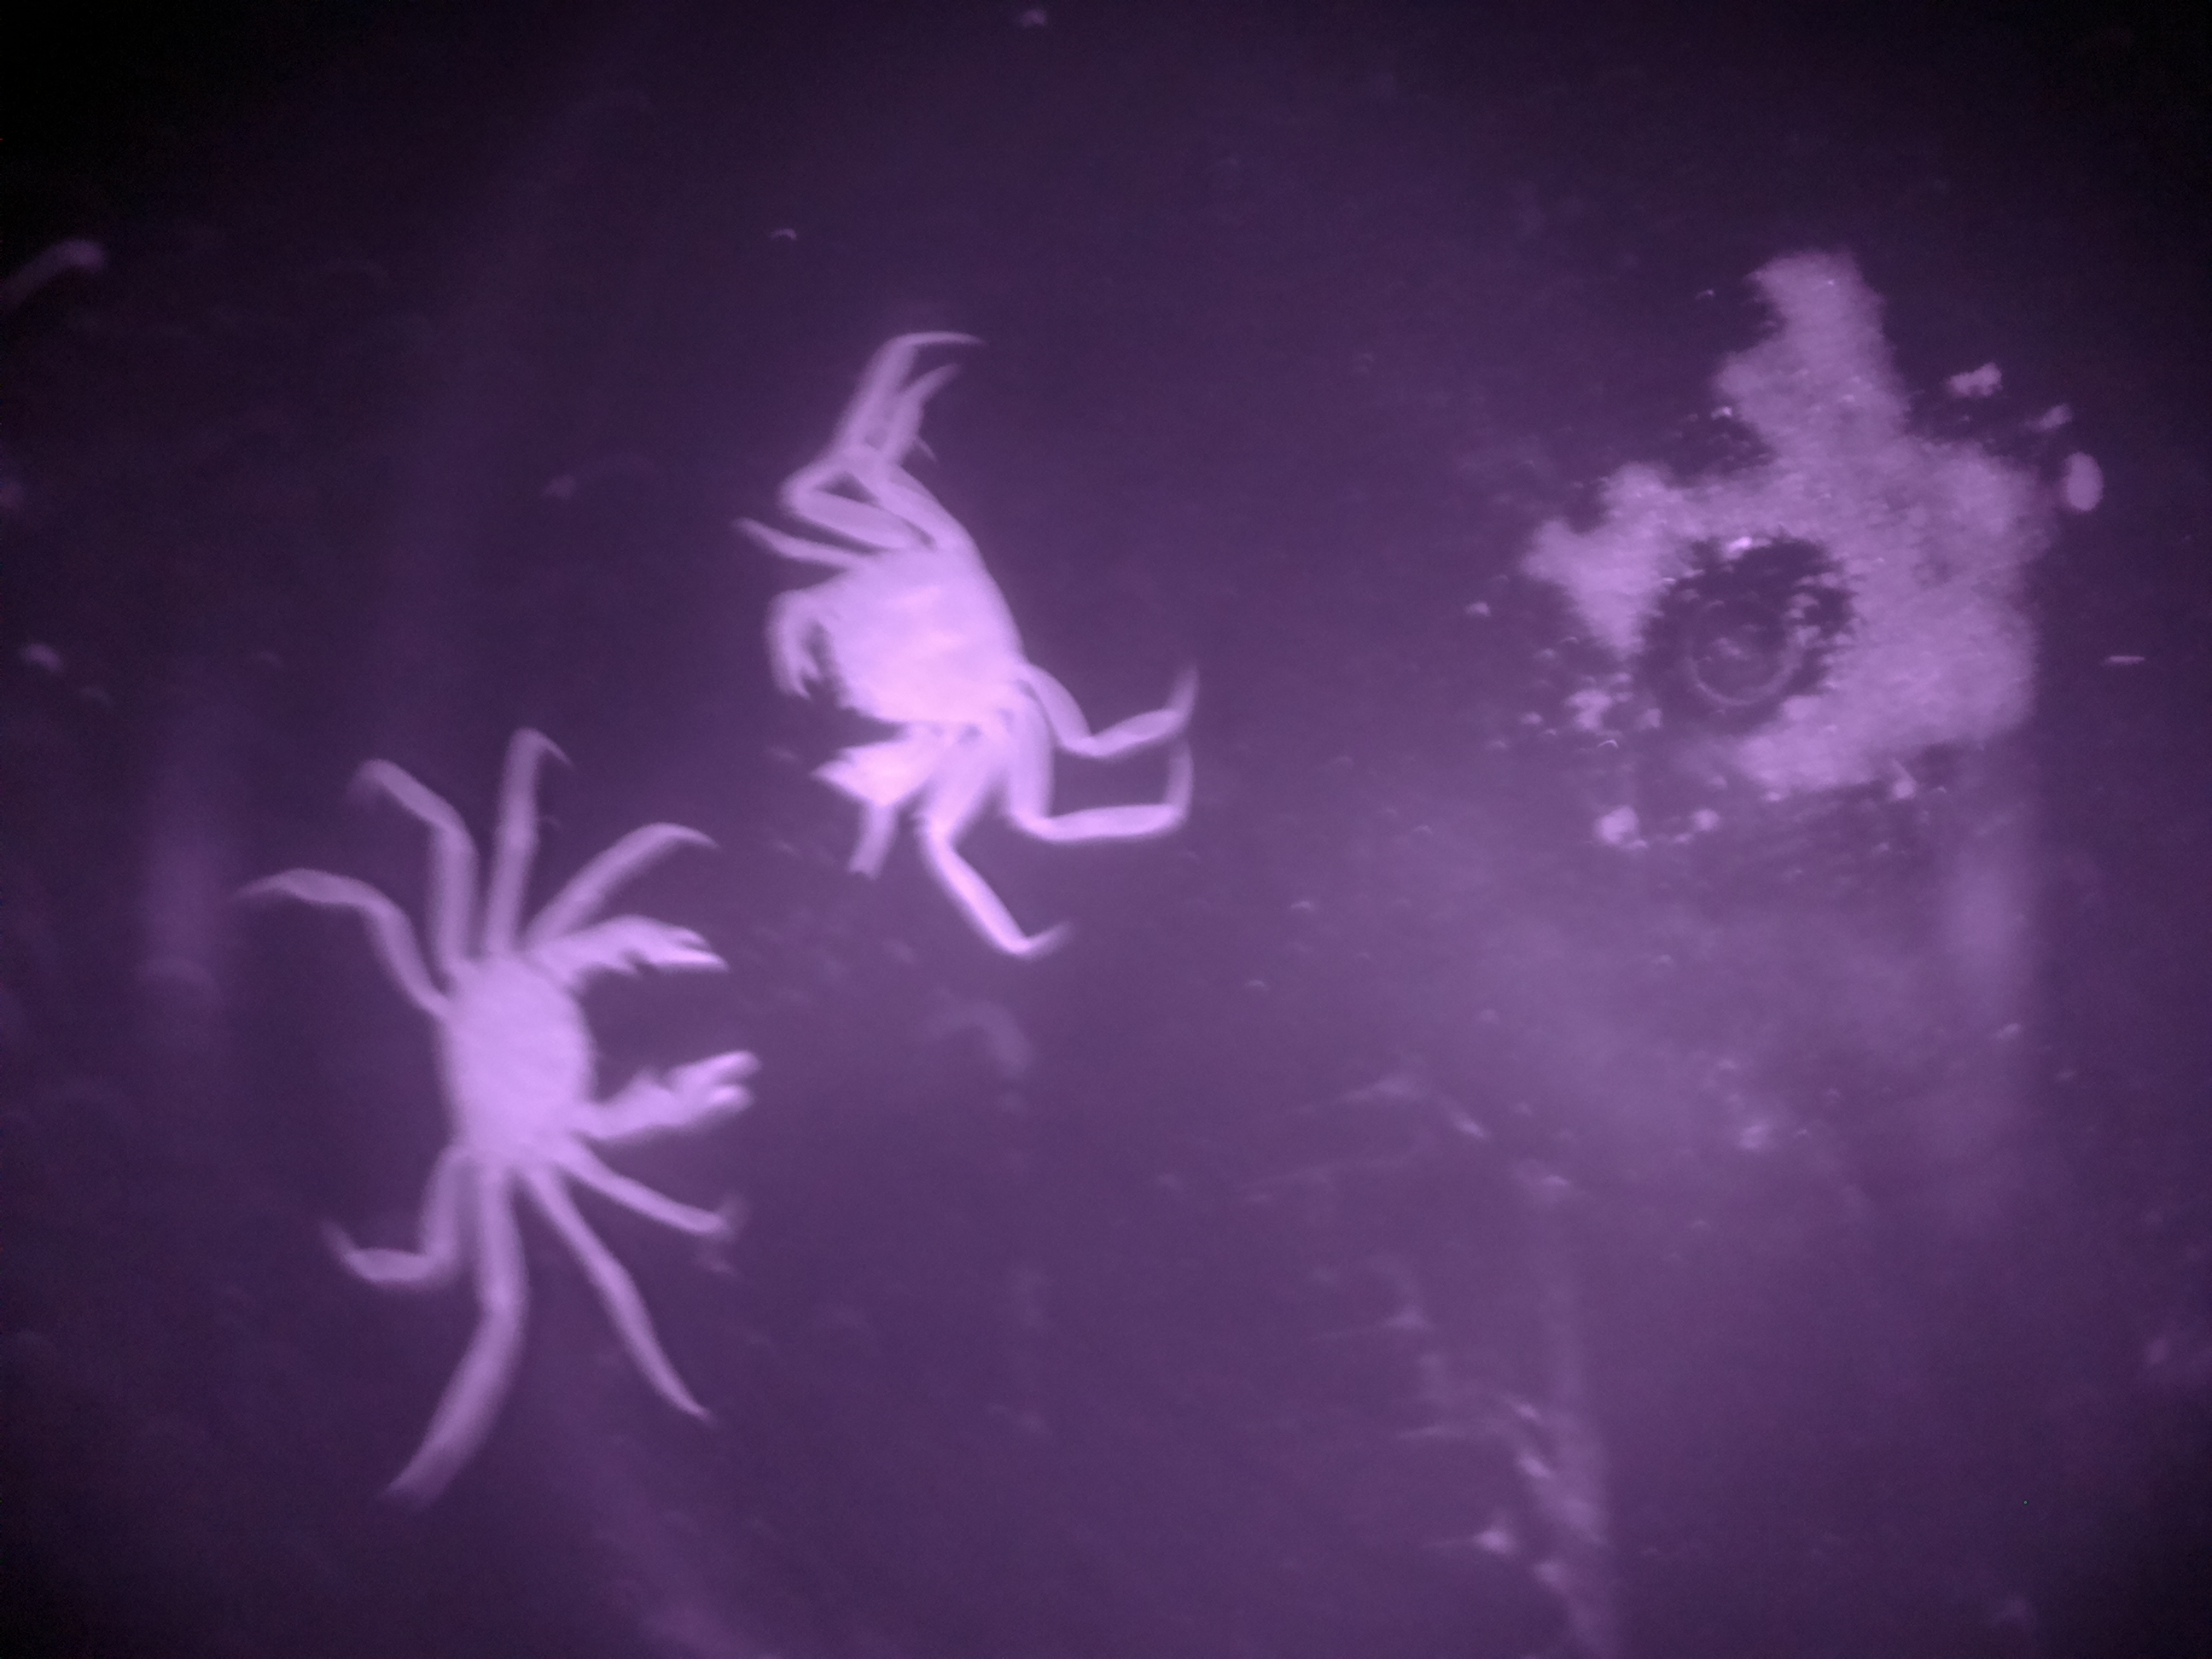Crab: (249, 824, 801, 1314), (732, 406, 1162, 929)
